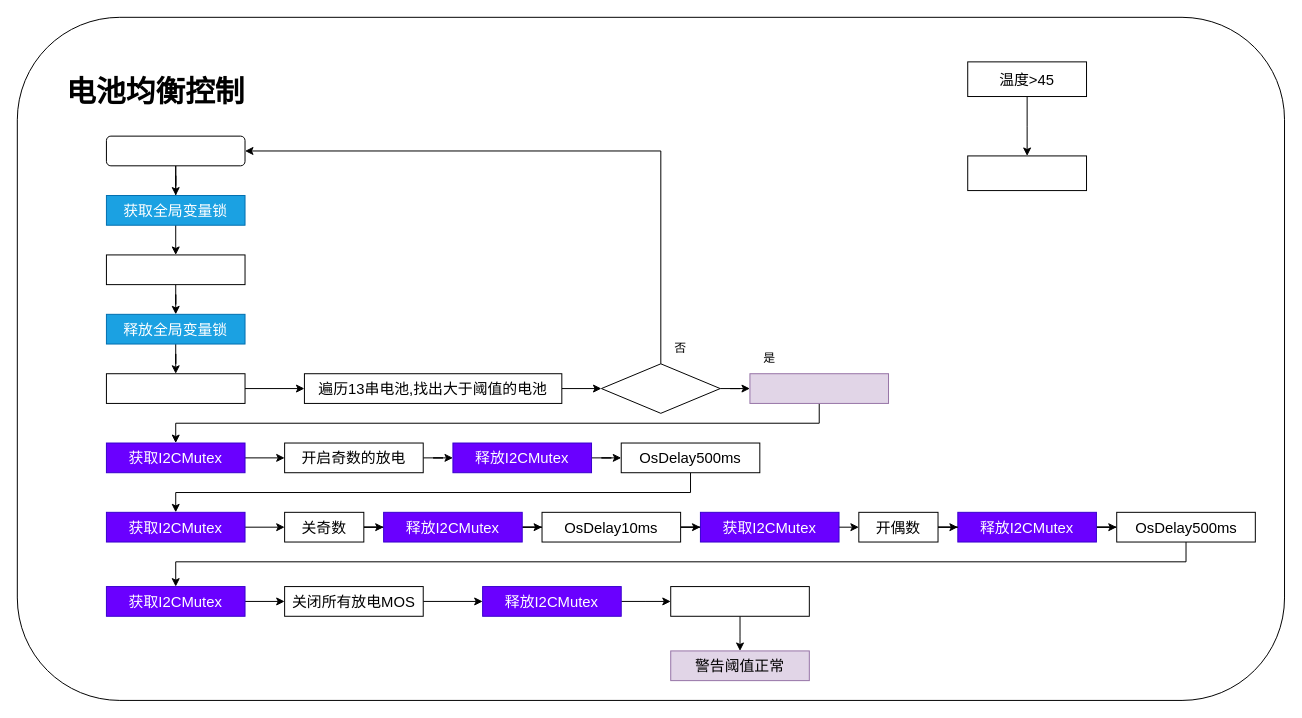
Image size: 1302x718. Some labels were removed from this diagram. Here are the shapes that lost their labels. From the top down, the box of each, then its label:
(105, 135, 245, 166): OsDelay750ms
(967, 155, 1087, 191): 停止均衡
(105, 254, 245, 285): 读取全局变量信息
(105, 373, 245, 403): 获取Vmin,均衡阈值
(600, 363, 720, 413): 存在?
(749, 373, 889, 403): 警告阈值提高
(670, 586, 809, 616): OsDelay250ms
